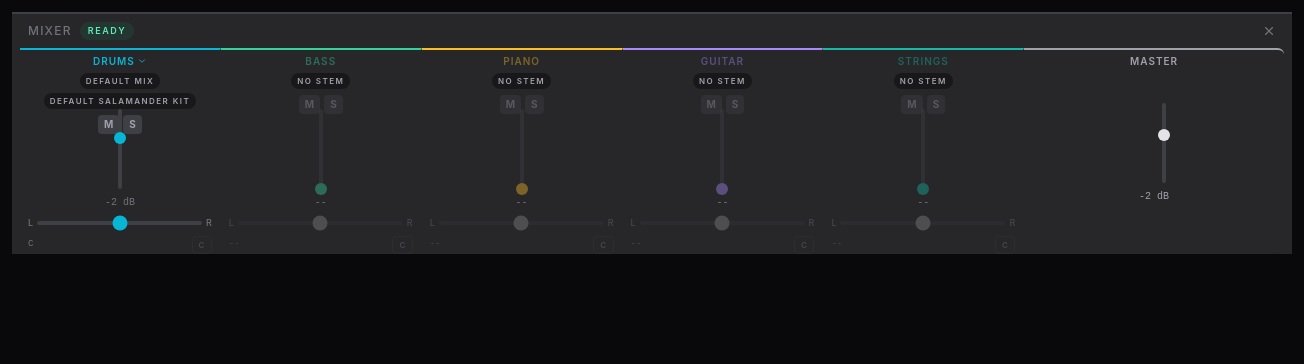
Scenario: MixerDrawer › shows the active drum kit truth when the sampled kit is available
Expected: the text "Default Salamander kit" is shown, x1=44 y1=92 x2=196 y2=108
Click the button "DRUMS": (120, 61) x1=93 y1=54 x2=147 y2=68
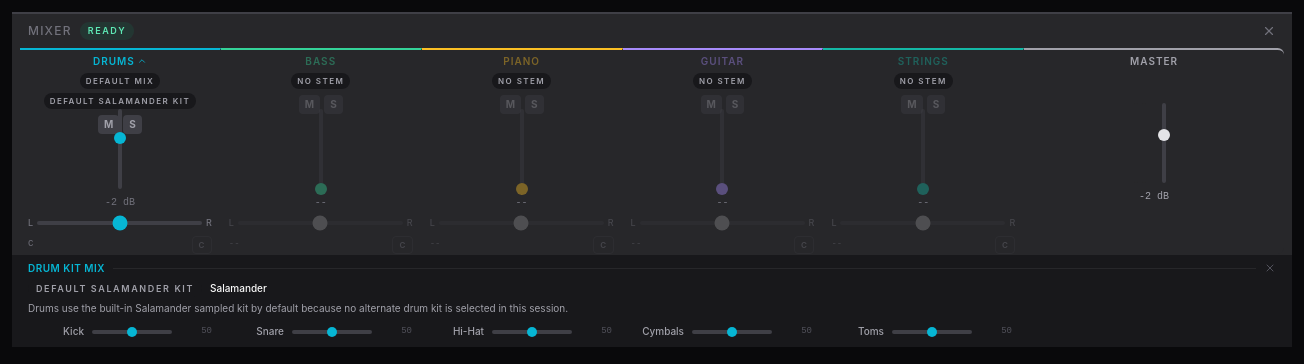
Expected: the text "Salamander" is shown, x1=50 y1=96 x2=190 y2=106
Expected: the text "Drums use the built-in Salamander sampled kit by default because no alternate drum kit is selected in this session." is shown, x1=28 y1=302 x2=568 y2=314
